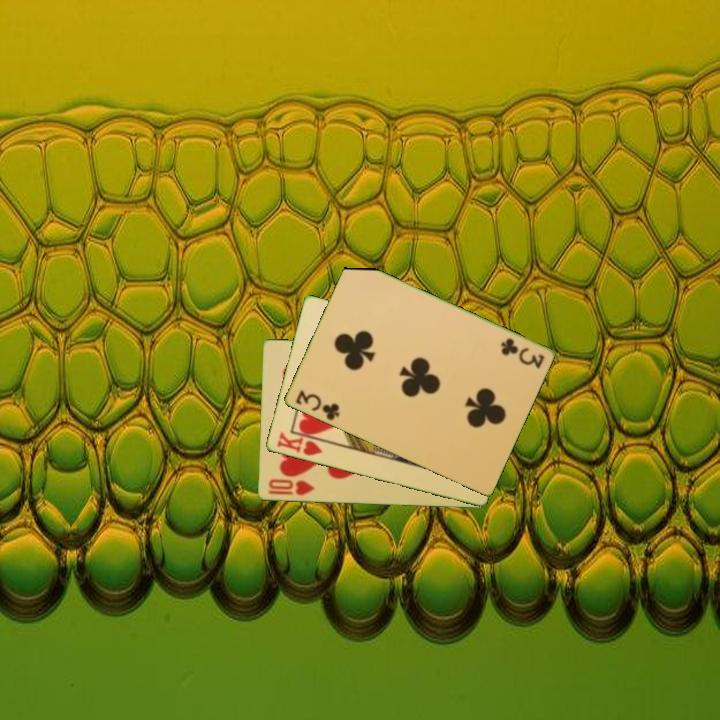10h: (264, 476, 317, 499)
3c: (292, 386, 342, 424), (497, 334, 547, 371)
Kh: (273, 428, 330, 459)
